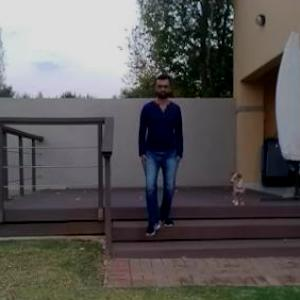follow: (135, 71, 178, 240)
